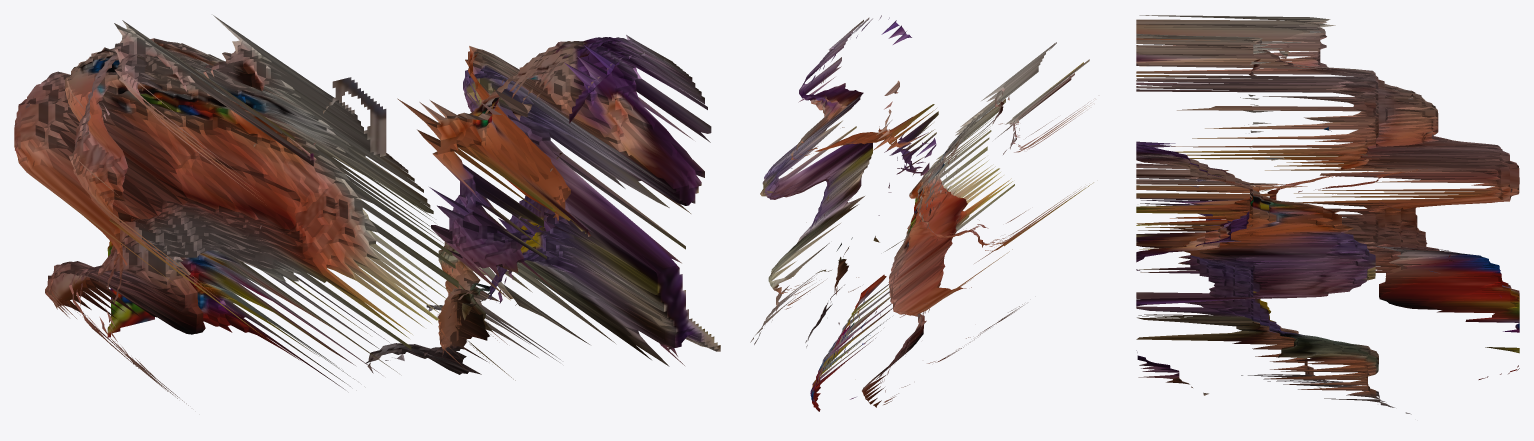
Rendered from frame_00384.glb.
3 renders of one model, left to right at view 1: azimuth 30°, elevation 25°; view 2: azimuth 150°, elevation 25°; view 3: azimuth 270°, elevation 25°, orthographic. The views are drawn at different scales.
Visible parts, largest first — view 1: geometry_0; view 2: geometry_0; view 3: geometry_0.
Boxes of the visible parts, x1,y1,x2,y2 form: geometry_0: (14, 14, 720, 405); geometry_0: (750, 15, 1093, 411); geometry_0: (1136, 15, 1519, 414).
Bounding box in the file's own units: 0.1486 × 0.1465 × 0.16.
1 material, 1 textured.
